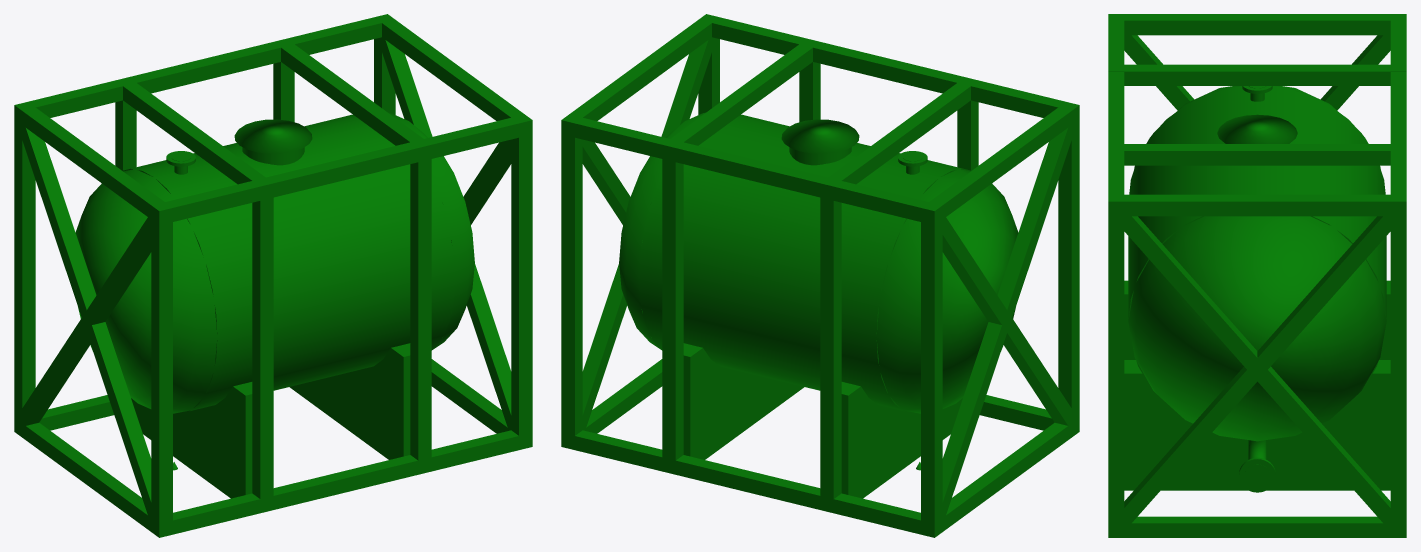
The model's file is Image-1711348062279-2281197298896_SURE_TANK.fbx.
3 renders of one model, left to right at view 1: azimuth 30°, elevation 25°; view 2: azimuth 150°, elevation 25°; view 3: azimuth 270°, elevation 25°, orthographic. The views are drawn at different scales.
Parts seen in each view (by area): view 1: CYLINDER 2 of SUBEQUIPMENT 3 of EQUIPMENT /SURE_TANK, DISH 3 of SUBEQUIPMENT 3 of EQUIPMENT /SURE_TANK, BOX 14 of SUBEQUIPMENT /RAMME, BOX 9 of SUBEQUIPMENT /RAMME, BOX 2 of SUBEQUIPMENT /RAMME, BOX 10 of SUBEQUIPMENT /RAMME, BOX 4 of SUBEQUIPMENT /RAMME, BOX 3 of SUBEQUIPMENT /RAMME, BOX 5 of SUBEQUIPMENT /RAMME, BOX 11 of SUBEQUIPMENT /RAMME, BOX 1 of SUBEQUIPMENT /RAMME, BOX 1 of SUBEQUIPMENT 2 of EQUIPMENT /SURE_TANK (+19 smaller); view 2: CYLINDER 2 of SUBEQUIPMENT 3 of EQUIPMENT /SURE_TANK, DISH 3 of SUBEQUIPMENT 3 of EQUIPMENT /SURE_TANK, BOX 13 of SUBEQUIPMENT /RAMME, BOX 11 of SUBEQUIPMENT /RAMME, BOX 1 of SUBEQUIPMENT /RAMME, BOX 12 of SUBEQUIPMENT /RAMME, BOX 23 of SUBEQUIPMENT /RAMME, BOX 9 of SUBEQUIPMENT /RAMME, BOX 22 of SUBEQUIPMENT /RAMME, BOX 24 of SUBEQUIPMENT /RAMME, BOX 2 of SUBEQUIPMENT /RAMME, BOX 1 of SUBEQUIPMENT 2 of EQUIPMENT /SURE_TANK (+19 smaller); view 3: DISH 2 of SUBEQUIPMENT 3 of EQUIPMENT /SURE_TANK, CYLINDER 2 of SUBEQUIPMENT 3 of EQUIPMENT /SURE_TANK, BOX 1 of SUBEQUIPMENT 2 of EQUIPMENT /SURE_TANK, BOX 7 of SUBEQUIPMENT /RAMME, BOX 8 of SUBEQUIPMENT /RAMME, BOX 19 of SUBEQUIPMENT /RAMME, BOX 18 of SUBEQUIPMENT /RAMME, BOX 6 of SUBEQUIPMENT /RAMME, BOX 20 of SUBEQUIPMENT /RAMME, BOX 21 of SUBEQUIPMENT /RAMME, BOX 5 of SUBEQUIPMENT /RAMME, BOX 22 of SUBEQUIPMENT /RAMME (+8 smaller).
Part boxes in pixels (x1,y1,x2,y2): CYLINDER 2 of SUBEQUIPMENT 3 of EQUIPMENT /SURE_TANK: [122, 114, 454, 413]; DISH 3 of SUBEQUIPMENT 3 of EQUIPMENT /SURE_TANK: [75, 169, 217, 413]; BOX 14 of SUBEQUIPMENT /RAMME: [18, 121, 155, 521]; BOX 9 of SUBEQUIPMENT /RAMME: [151, 118, 518, 224]; BOX 2 of SUBEQUIPMENT /RAMME: [151, 202, 172, 537]; BOX 10 of SUBEQUIPMENT /RAMME: [163, 430, 518, 536]; BOX 4 of SUBEQUIPMENT /RAMME: [410, 139, 431, 473]; BOX 3 of SUBEQUIPMENT /RAMME: [252, 177, 273, 512]; BOX 5 of SUBEQUIPMENT /RAMME: [511, 114, 532, 449]; BOX 11 of SUBEQUIPMENT /RAMME: [14, 17, 381, 121]; BOX 1 of SUBEQUIPMENT /RAMME: [14, 102, 35, 436]; BOX 1 of SUBEQUIPMENT 2 of EQUIPMENT /SURE_TANK: [304, 343, 410, 456]; CYLINDER 2 of SUBEQUIPMENT 3 of EQUIPMENT /SURE_TANK: [639, 114, 971, 413]; DISH 3 of SUBEQUIPMENT 3 of EQUIPMENT /SURE_TANK: [876, 169, 1018, 413]; BOX 13 of SUBEQUIPMENT /RAMME: [938, 125, 1071, 520]; BOX 11 of SUBEQUIPMENT /RAMME: [575, 118, 942, 224]; BOX 1 of SUBEQUIPMENT /RAMME: [921, 202, 942, 537]; BOX 12 of SUBEQUIPMENT /RAMME: [575, 430, 941, 536]; BOX 23 of SUBEQUIPMENT /RAMME: [662, 139, 683, 474]; BOX 9 of SUBEQUIPMENT /RAMME: [712, 17, 1079, 121]; BOX 22 of SUBEQUIPMENT /RAMME: [561, 114, 582, 449]; BOX 24 of SUBEQUIPMENT /RAMME: [820, 177, 841, 498]; BOX 2 of SUBEQUIPMENT /RAMME: [1058, 102, 1079, 437]; BOX 1 of SUBEQUIPMENT 2 of EQUIPMENT /SURE_TANK: [683, 343, 789, 456]; DISH 2 of SUBEQUIPMENT 3 of EQUIPMENT /SURE_TANK: [1128, 216, 1386, 441]; CYLINDER 2 of SUBEQUIPMENT 3 of EQUIPMENT /SURE_TANK: [1128, 86, 1386, 410]; BOX 1 of SUBEQUIPMENT 2 of EQUIPMENT /SURE_TANK: [1124, 360, 1390, 475]; BOX 7 of SUBEQUIPMENT /RAMME: [1116, 211, 1399, 527]; BOX 8 of SUBEQUIPMENT /RAMME: [1116, 212, 1399, 527]; BOX 19 of SUBEQUIPMENT /RAMME: [1108, 194, 1406, 216]; BOX 18 of SUBEQUIPMENT /RAMME: [1108, 516, 1406, 537]; BOX 6 of SUBEQUIPMENT /RAMME: [1124, 64, 1390, 85]; BOX 20 of SUBEQUIPMENT /RAMME: [1124, 144, 1390, 165]; BOX 21 of SUBEQUIPMENT /RAMME: [1124, 14, 1390, 35]; BOX 5 of SUBEQUIPMENT /RAMME: [1108, 194, 1124, 537]; BOX 22 of SUBEQUIPMENT /RAMME: [1390, 194, 1406, 537].
Size of the model in its own units: 2.75 by 1.85 by 2.34.
